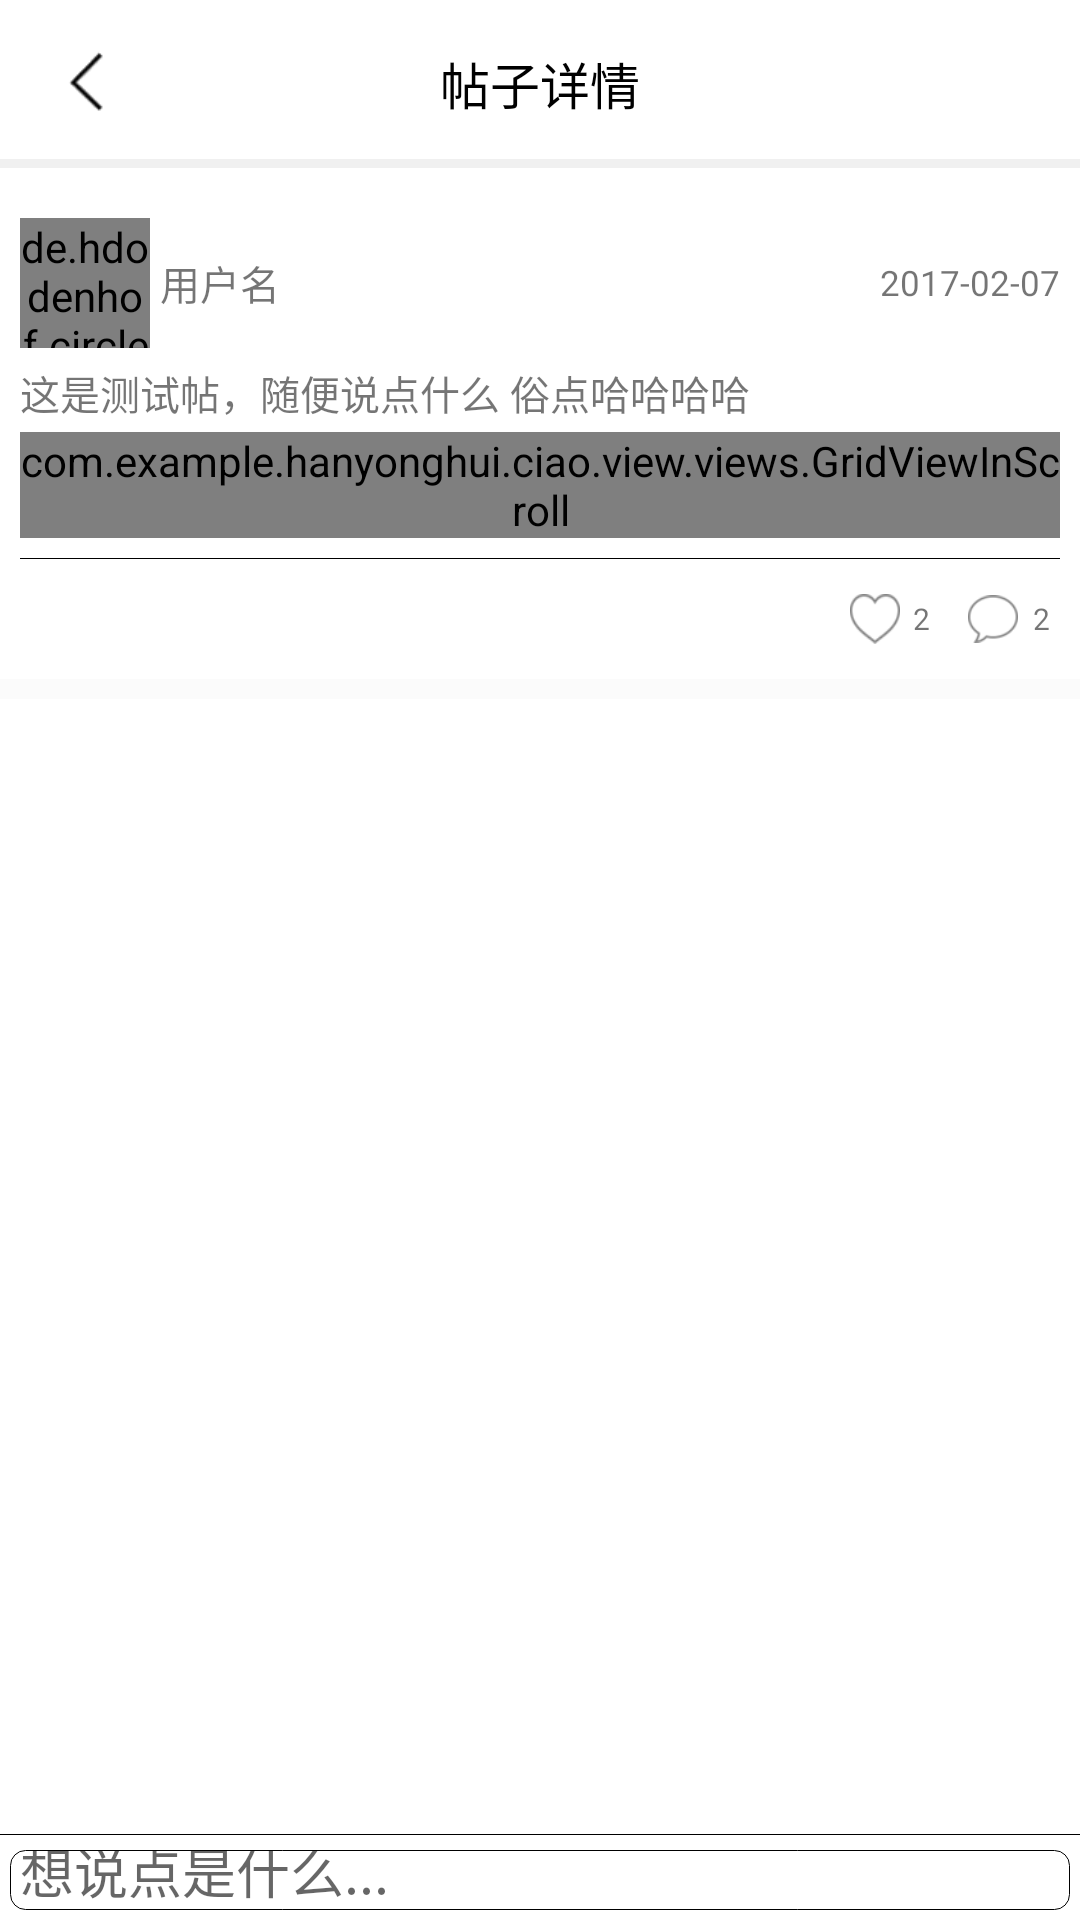

Point at icon controls on the screen. Image size 1080*1920, points as point (x, y).
back: point (86, 82)
commentaries: point (993, 619)
thumb seleter: point (875, 619)
